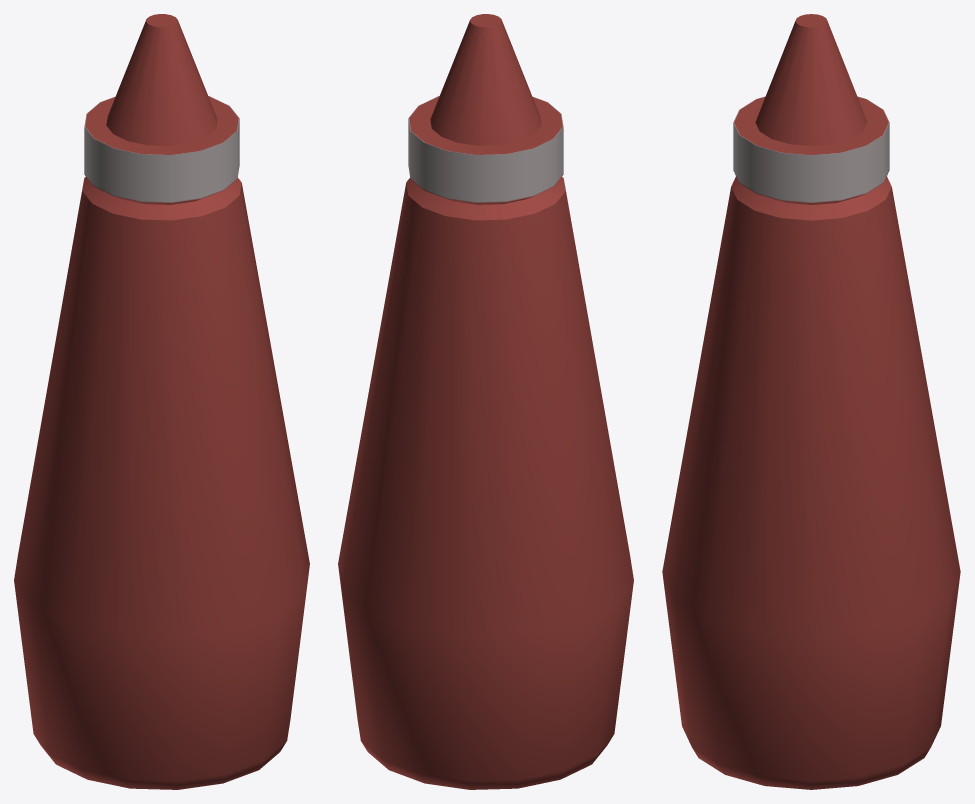
The model's file is sauceBottle.fbx.
The picture shows the model from 3 angles, left to right: view 1: azimuth 30°, elevation 25°; view 2: azimuth 150°, elevation 25°; view 3: azimuth 270°, elevation 25°; orthographic projection.
Visible parts, largest first — view 1: sauceBottle; view 2: sauceBottle; view 3: sauceBottle.
Boxes of the visible parts, bbox=[...] form: sauceBottle: bbox=[14, 14, 309, 789]; sauceBottle: bbox=[338, 14, 633, 789]; sauceBottle: bbox=[662, 14, 960, 789].
Size of the model in its own units: 178 by 474 by 178.
